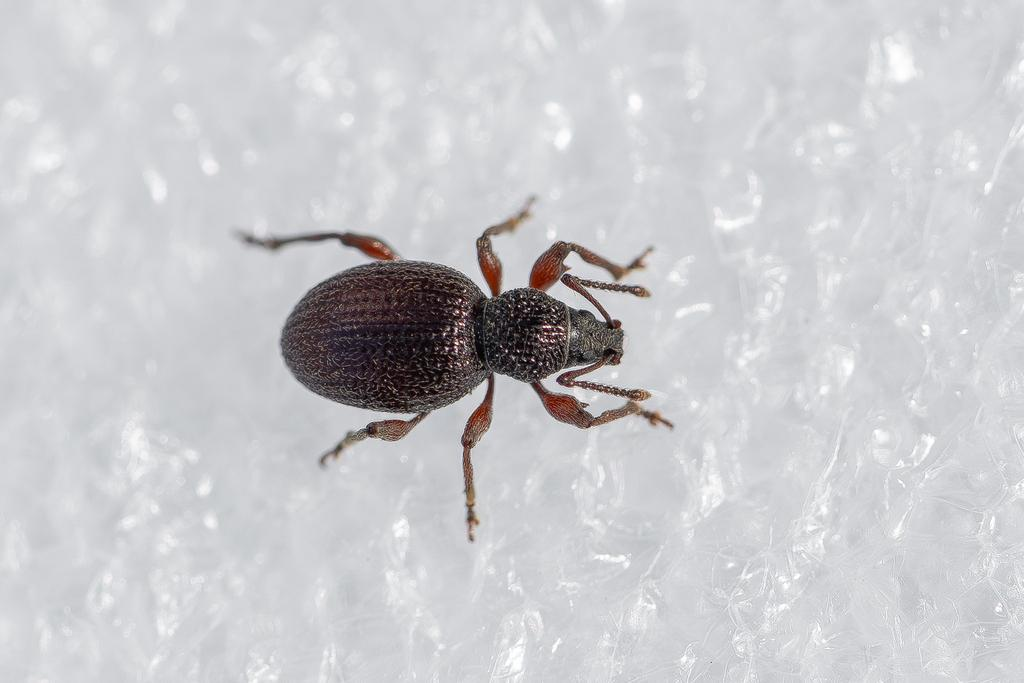weevils: (199, 160, 717, 560)
